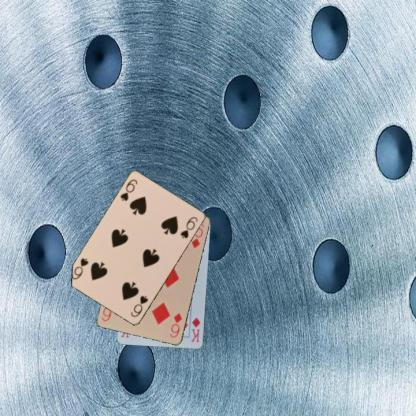6d: (168, 310, 184, 339)
6s: (128, 292, 149, 318), (118, 177, 139, 203)
Kd: (188, 314, 202, 344)
